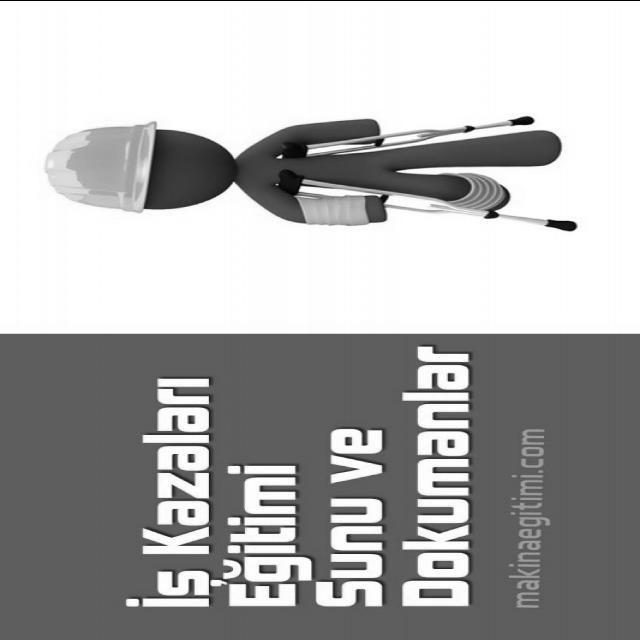safety_helmet: (42, 116, 160, 214)
